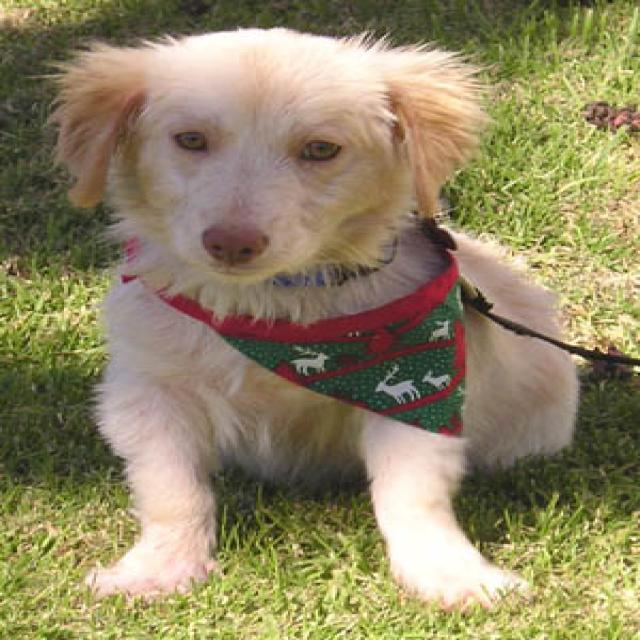Dogs: (36, 24, 582, 614)
